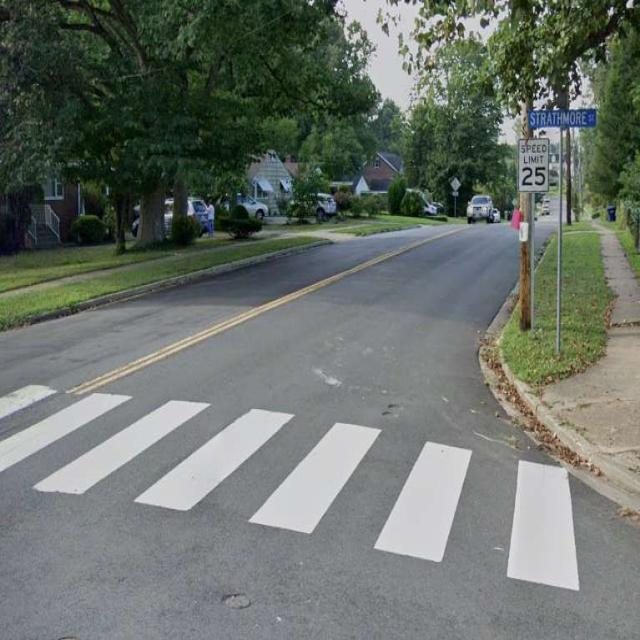speedLimit25: (518, 134, 549, 196), (461, 190, 497, 224)
